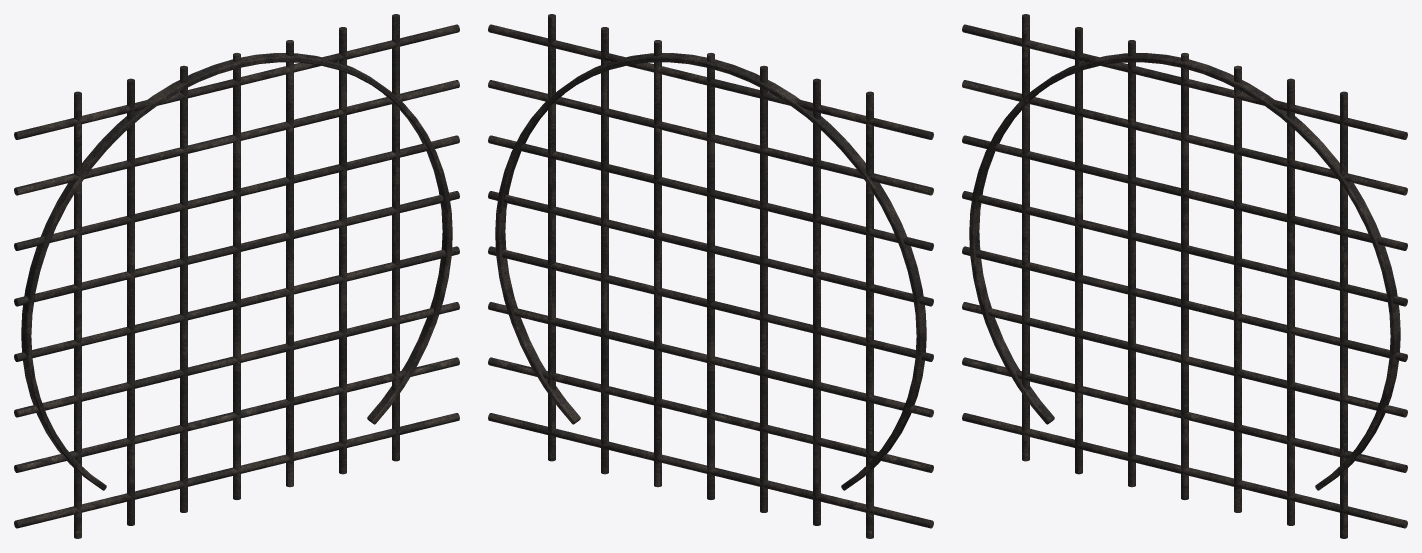
The model's file is bars_metal_2.glb.
3 views of the same model, side by side, from view 1: azimuth 30°, elevation 25°; view 2: azimuth 150°, elevation 25°; view 3: azimuth 330°, elevation 25° (orthographic).
Visible parts, largest first — view 1: bars_metal_2; view 2: bars_metal_2; view 3: bars_metal_2.
Part boxes in pixels (box(x1,y1,x2,y2)): bars_metal_2: box(14, 14, 459, 538); bars_metal_2: box(488, 14, 933, 538); bars_metal_2: box(962, 14, 1407, 538).
Bounding box in the file's own units: 2.5 × 2.4 × 0.06.
1 material, 1 textured.
